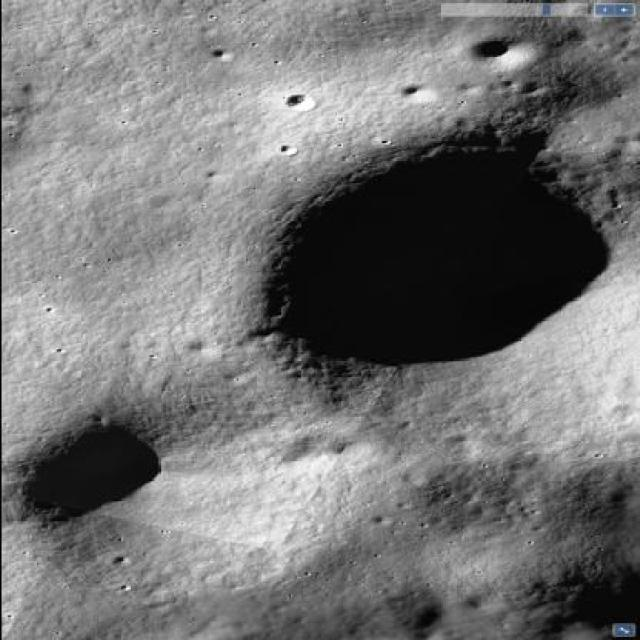crater: (258, 136, 628, 410), (20, 416, 174, 538), (466, 37, 529, 71), (285, 92, 312, 114)
